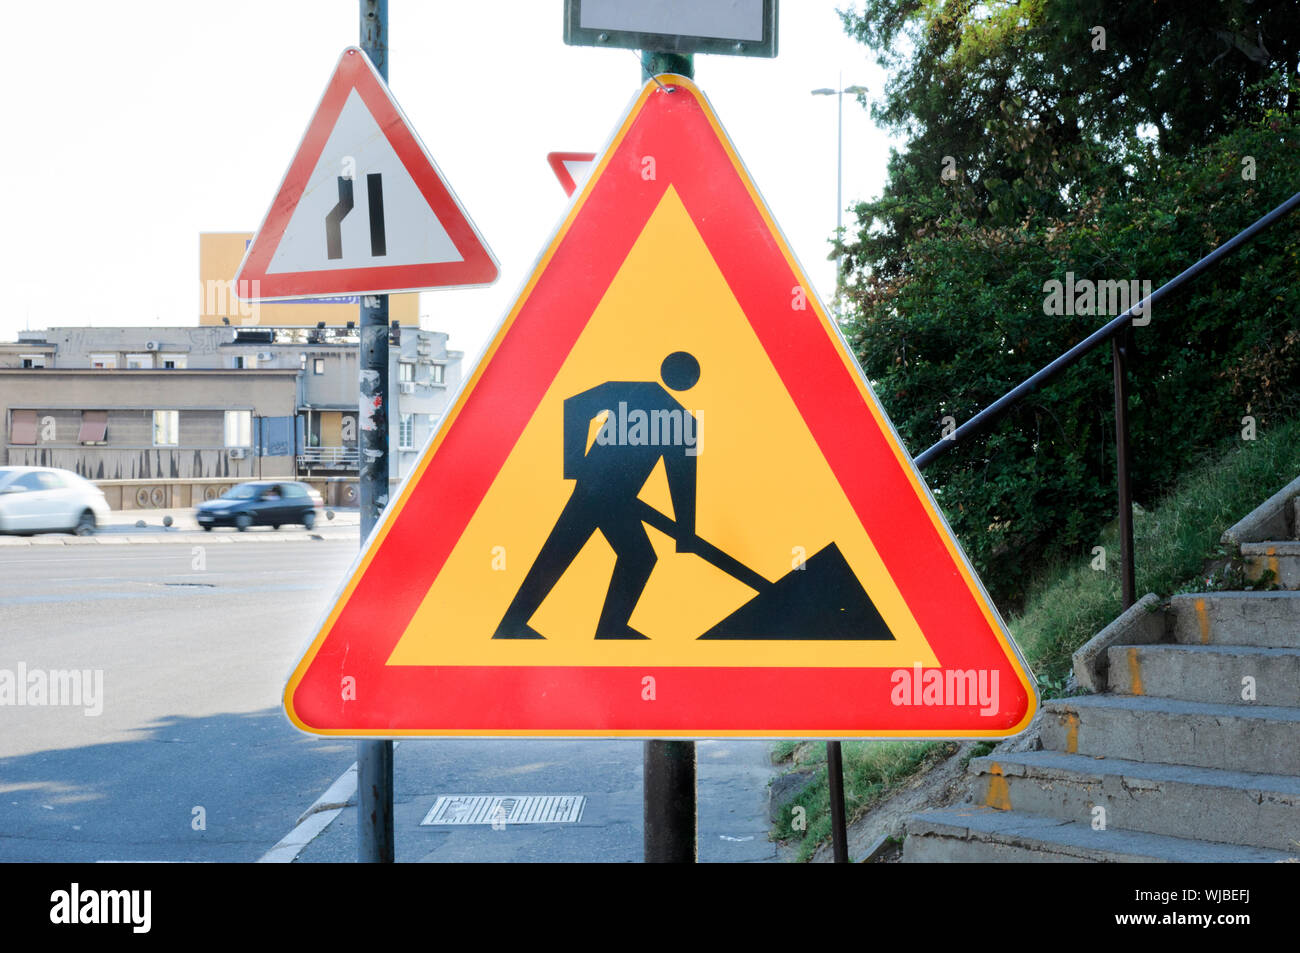caution: (287, 81, 1032, 736)
narrow-road: (238, 46, 490, 288)
